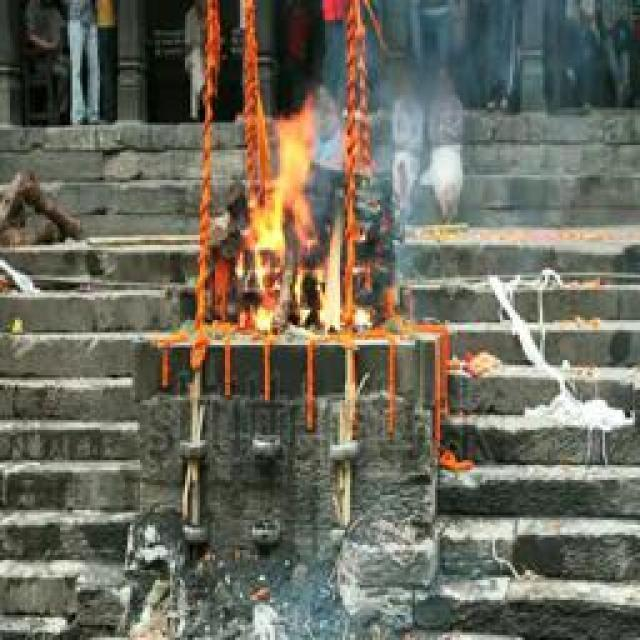Fire: (253, 95, 351, 334)
